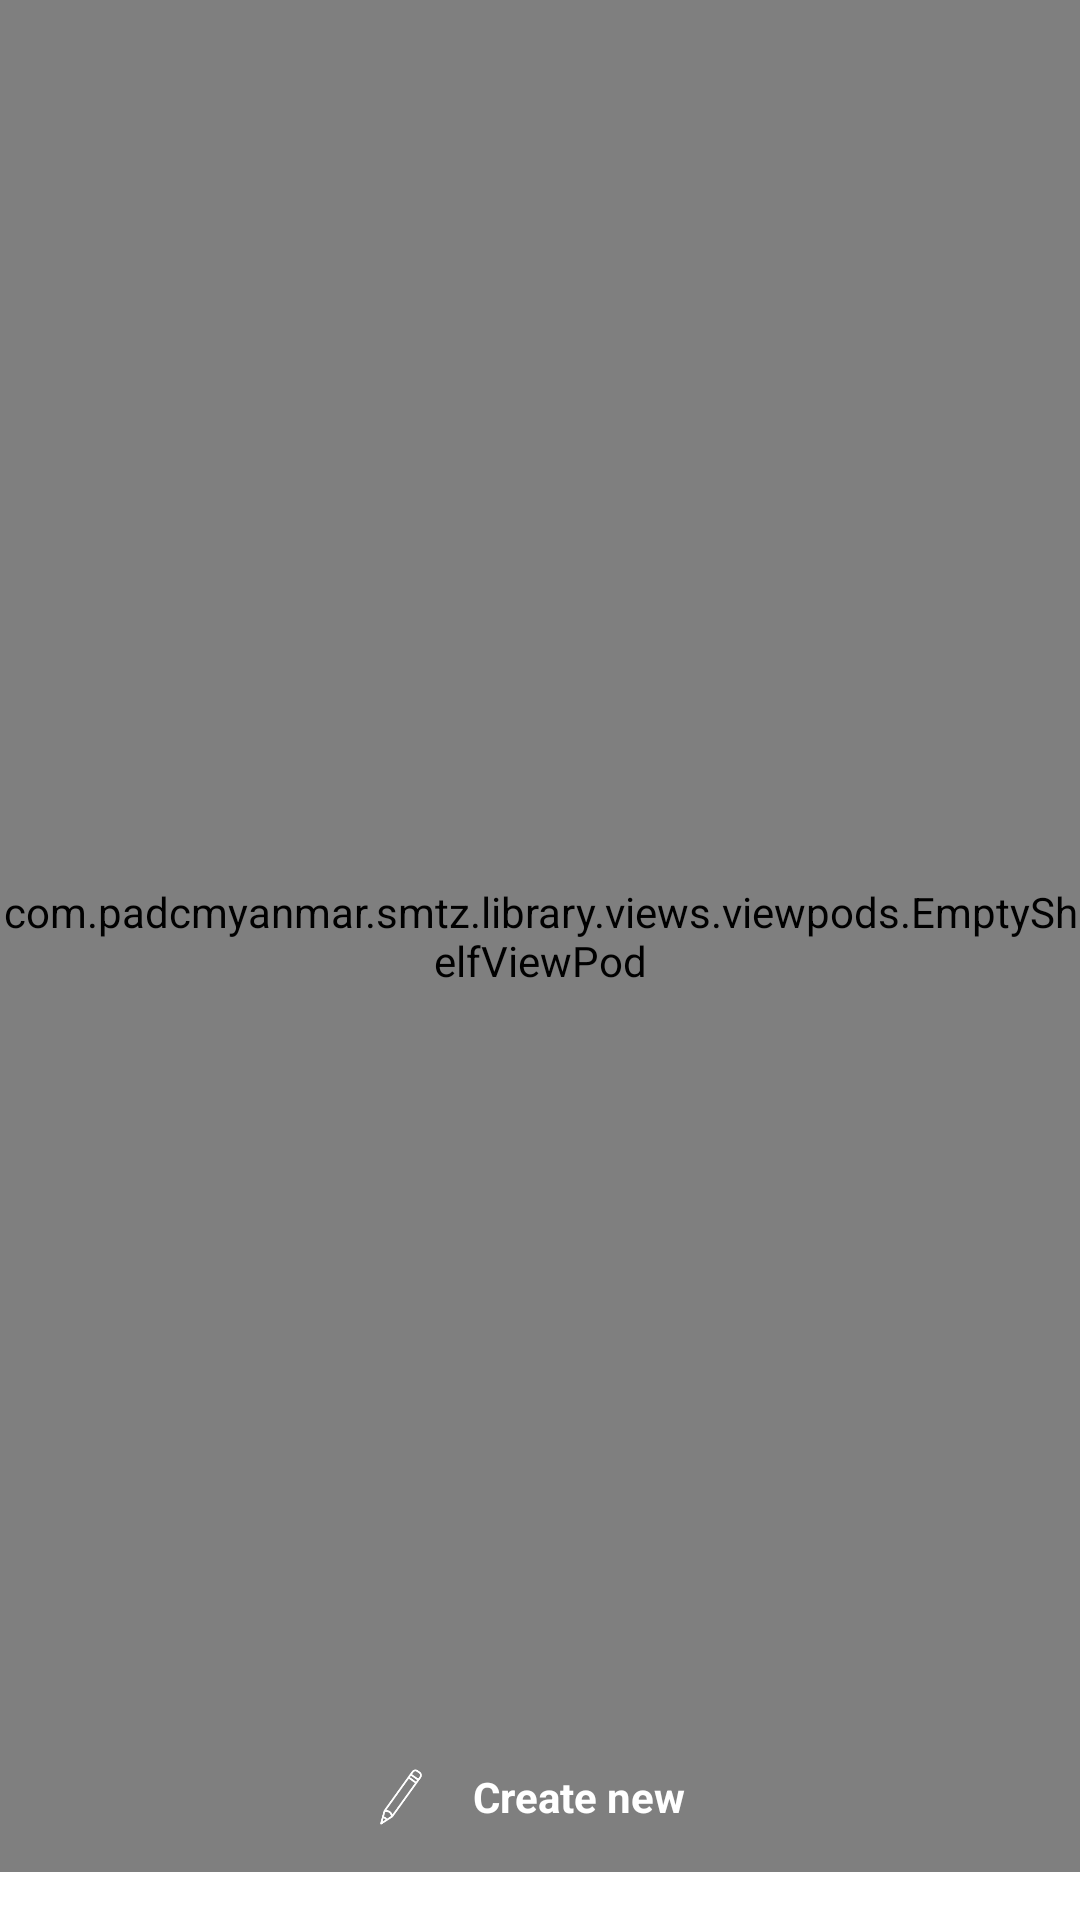

Named icons in this screenshot (1080*1920) and their bounding boxes, [left=x1, top=y1, right=x2, bottom=y2]:
pencil: [left=380, top=1769, right=422, bottom=1825]
